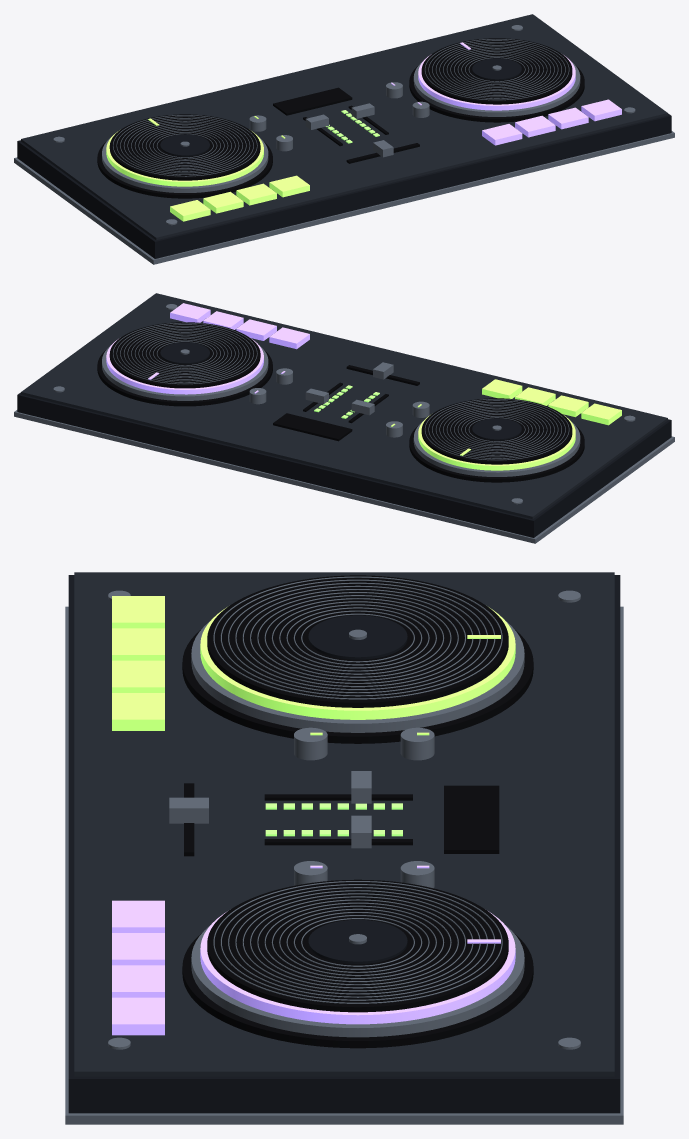
3 views of the same model, one above another, from view 1: azimuth 30°, elevation 25°; view 2: azimuth 150°, elevation 25°; view 3: azimuth 270°, elevation 25° (orthographic). The views are drawn at different scales.
Size of the model in its own units: 2.9 by 0.2293 by 1.35.
